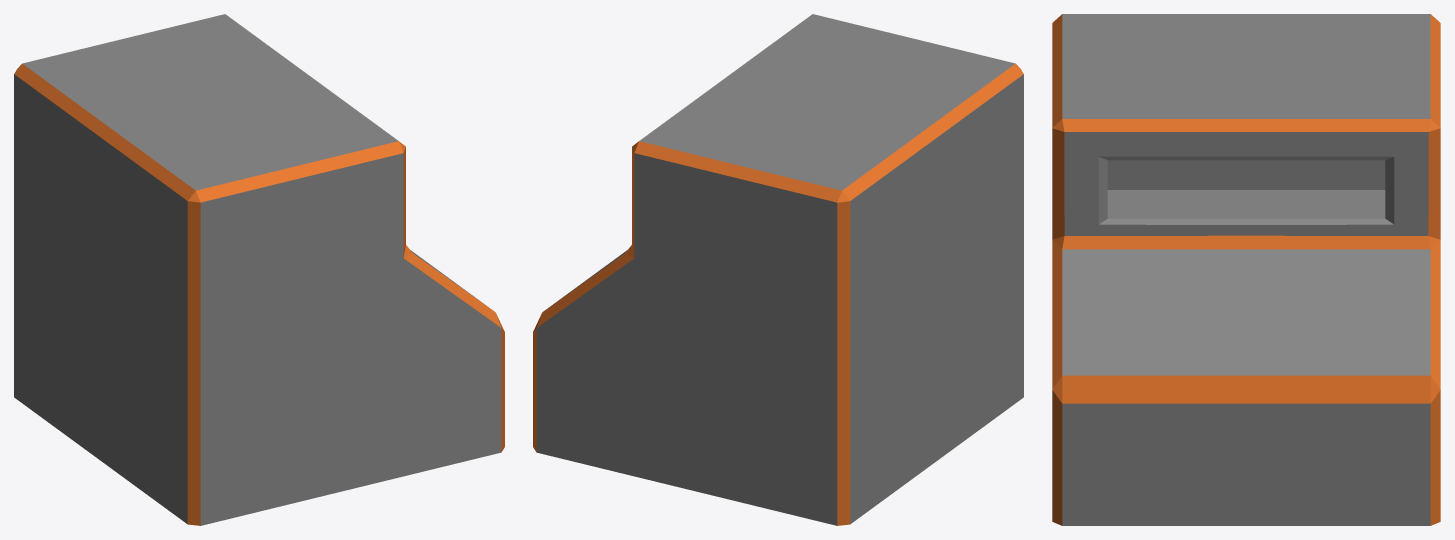
The model's file is Silicon processor.glb.
3 views of the same model, side by side, from view 1: azimuth 30°, elevation 25°; view 2: azimuth 150°, elevation 25°; view 3: azimuth 270°, elevation 25° (orthographic). The views are drawn at different scales.
Parts seen in each view (by area): view 1: Cube; view 2: Cube; view 3: Cube.
Part boxes in pixels (x1,y1,x2,y2): Cube: (14,14,504,525); Cube: (533,14,1023,525); Cube: (1052,14,1440,525).
Size of the model in its own units: 200 by 200 by 200.
